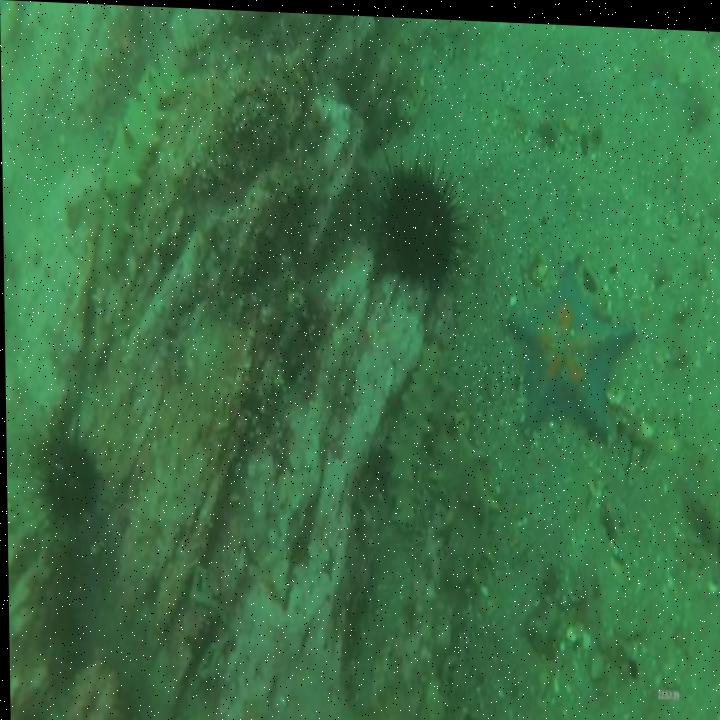echinus: (374, 157, 459, 283), (44, 432, 96, 524)
holothurian: (102, 59, 174, 255), (440, 422, 490, 588), (387, 339, 434, 513)
starfish: (506, 256, 633, 431)
